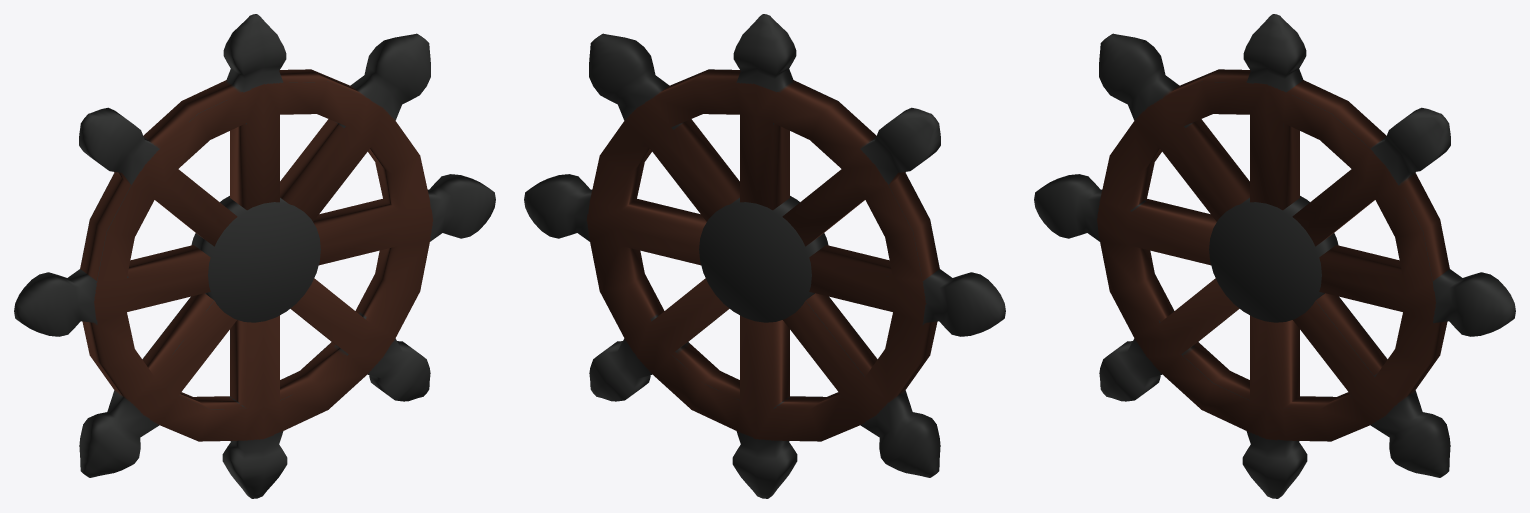
Rendered from timonBarco.fbx.
3 renders of one model, left to right at view 1: azimuth 30°, elevation 25°; view 2: azimuth 150°, elevation 25°; view 3: azimuth 330°, elevation 25°, orthographic.
Visible parts, largest first — view 1: Cylinder.001; view 2: Cylinder.001; view 3: Cylinder.001.
Part boxes in pixels (<box>): Cylinder.001: <box>14,14,495,498</box>; Cylinder.001: <box>524,14,1005,498</box>; Cylinder.001: <box>1034,14,1515,498</box>.
Size of the model in its own units: 91.1 by 88.12 by 6.88.
Materials: 1 (1 with a texture image).
